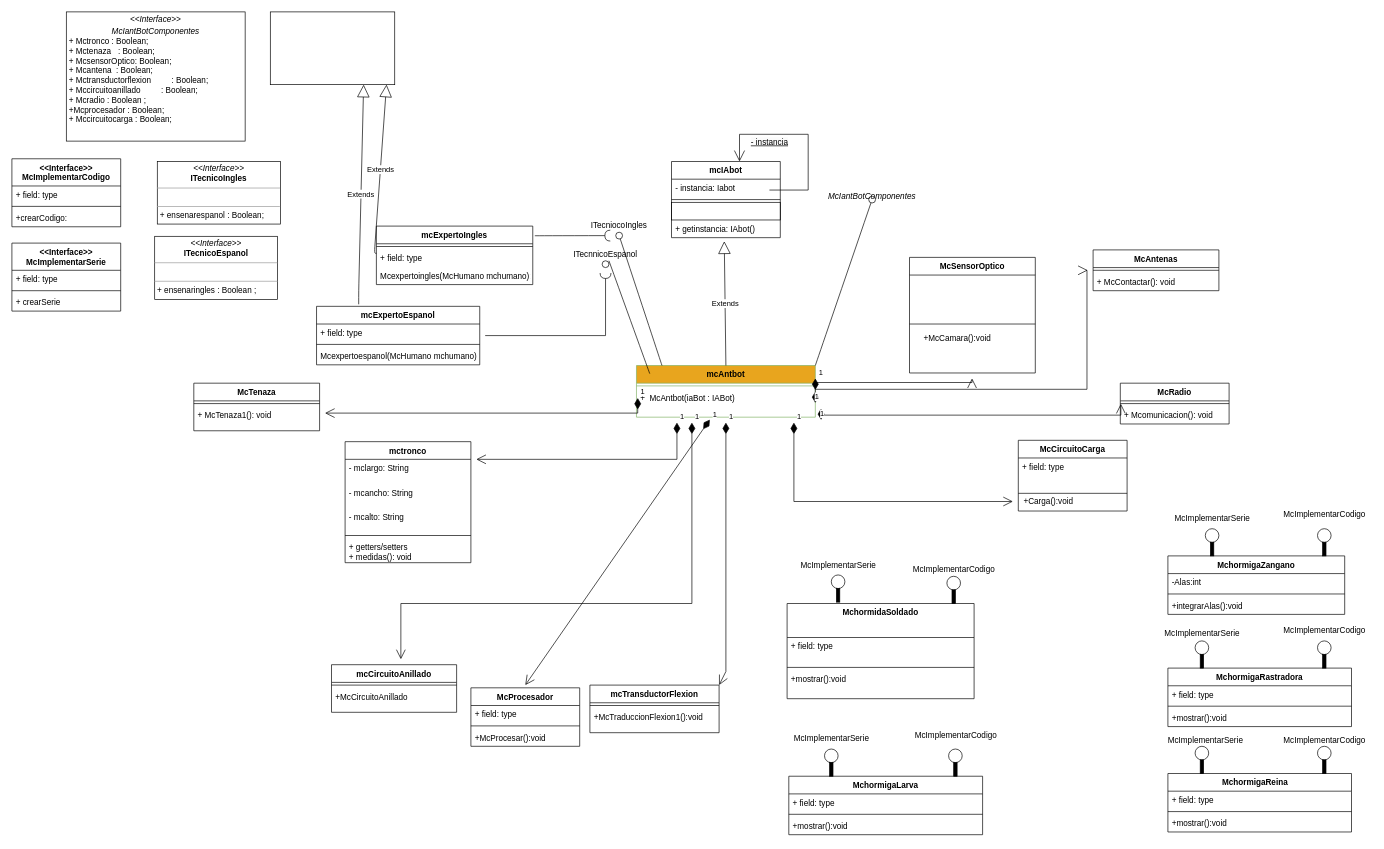
Image size: 1384x849. Some labels were removed from this diagram. Here are the shapes that lost their labels. From the top down, the centre of each, then its label:
At point 332,48: "<<abstract>> McHumano - nombre : String + Humano(nombre:String)".
At point 725,211: "# IAbot()".
